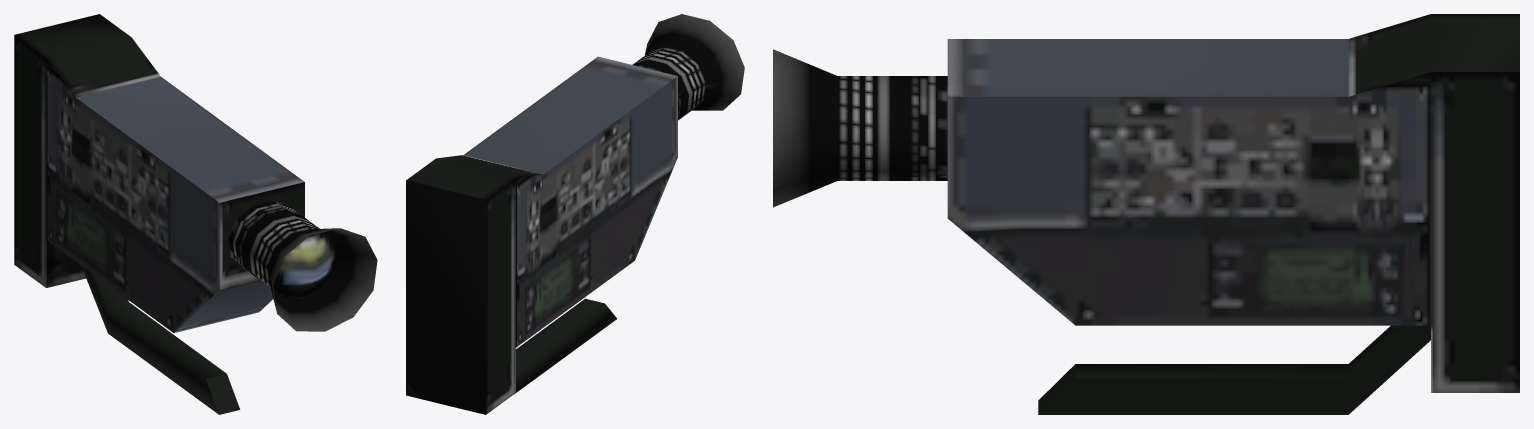
File: MP2_RECOVERY.glb
3 renders of one model, left to right at view 1: azimuth 30°, elevation 25°; view 2: azimuth 150°, elevation 25°; view 3: azimuth 270°, elevation 25°, orthographic. The views are drawn at different scales.
Visible parts, largest first — view 1: MP1_RECOVERY; view 2: MP1_RECOVERY; view 3: MP1_RECOVERY.
Boxes of the visible parts, <box> form: MP1_RECOVERY: <box>14,14,377,414</box>; MP1_RECOVERY: <box>406,14,744,414</box>; MP1_RECOVERY: <box>773,14,1519,414</box>.
Size of the model in its own units: 0.104 by 0.249 by 0.462.
Materials: 1 (1 with a texture image).
